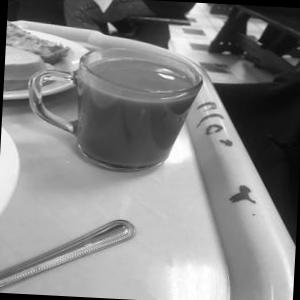coffee: (49, 26, 208, 194)
